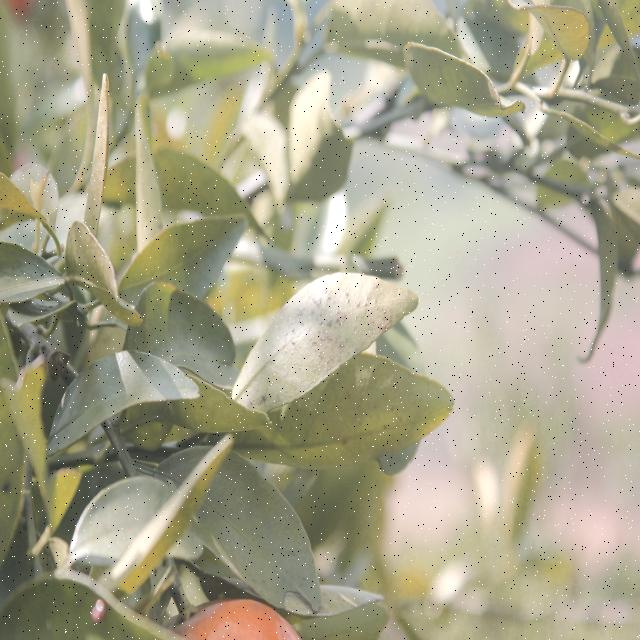melanose: (227, 260, 415, 414)
